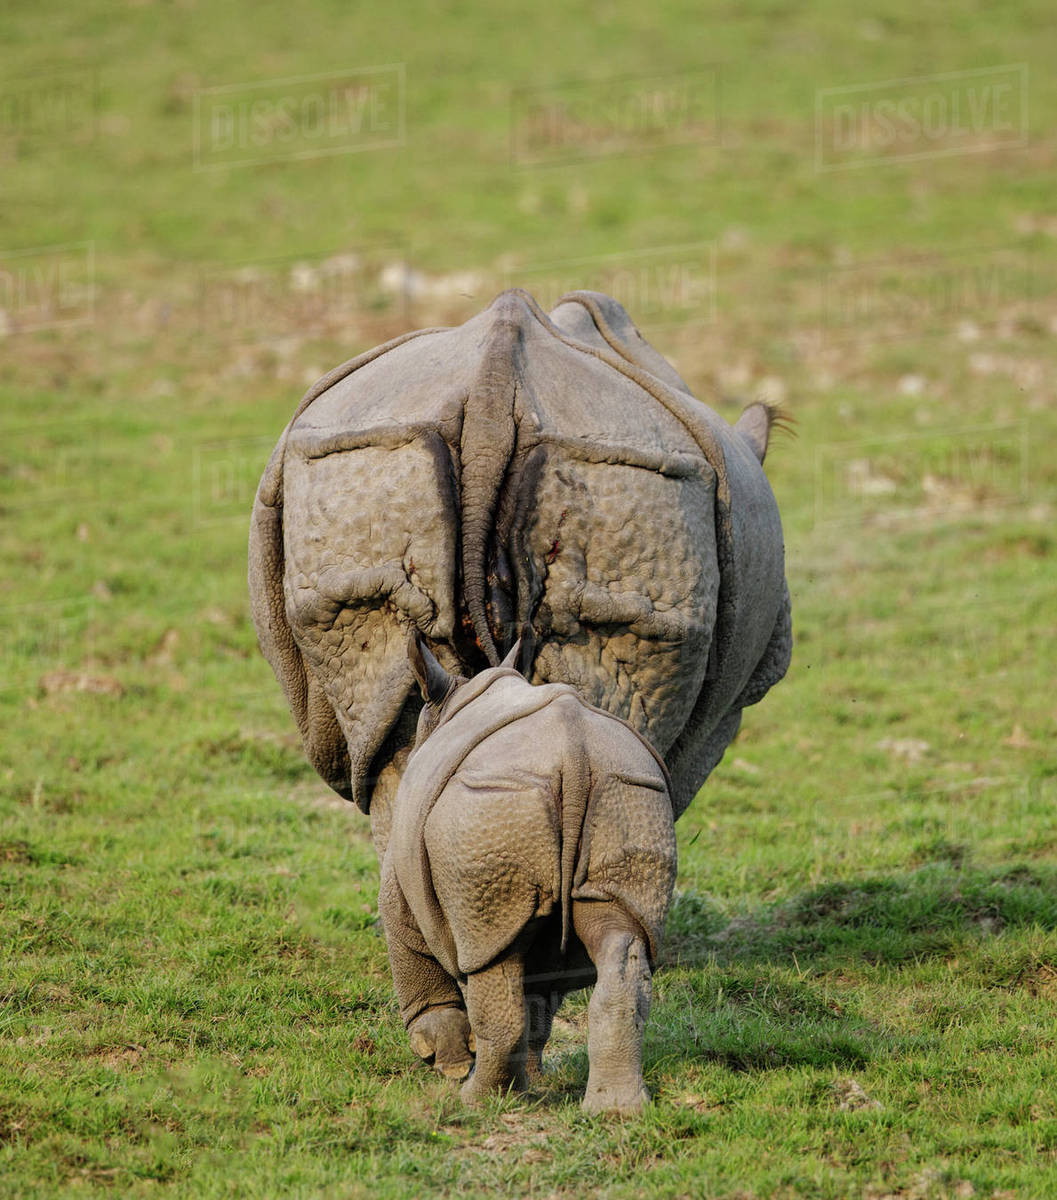rhinoceros: (245, 296, 801, 866), (367, 628, 690, 1117)
